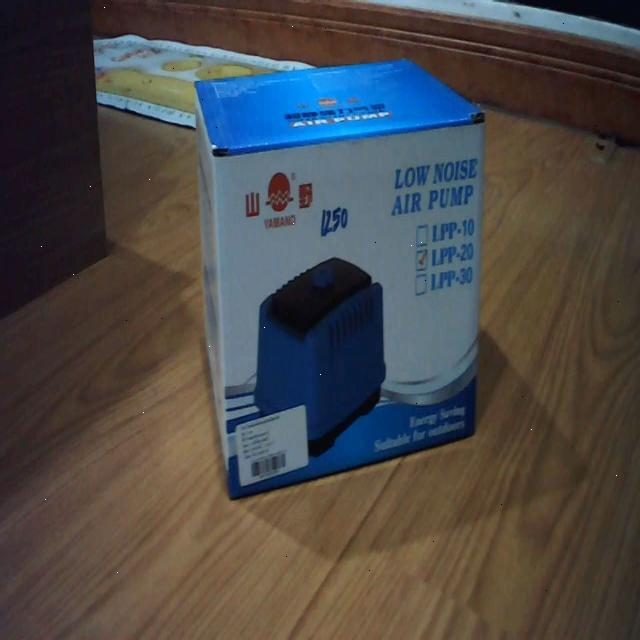YAMANO_LPP_20: (185, 46, 500, 514)
